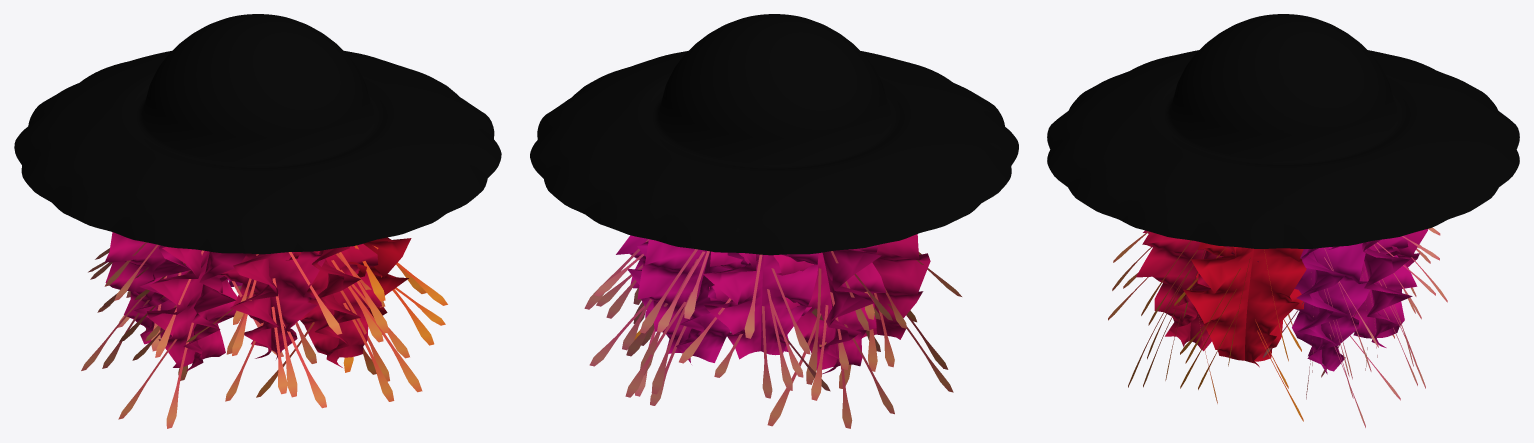
The model's file is fried_egg_jelly.glb.
3 views of the same model, side by side, from view 1: azimuth 30°, elevation 25°; view 2: azimuth 150°, elevation 25°; view 3: azimuth 270°, elevation 25° (orthographic). The views are drawn at different scales.
Parts seen in each view (by area): view 1: fried_egg_jelly; view 2: fried_egg_jelly; view 3: fried_egg_jelly.
Part boxes in pixels (left/top/right/bottom): fried_egg_jelly: left=14, top=14, right=501, bottom=428; fried_egg_jelly: left=530, top=14, right=1018, bottom=428; fried_egg_jelly: left=1047, top=14, right=1519, bottom=427.
Size of the model in its own units: 0.3983 by 0.3152 by 0.3983.
